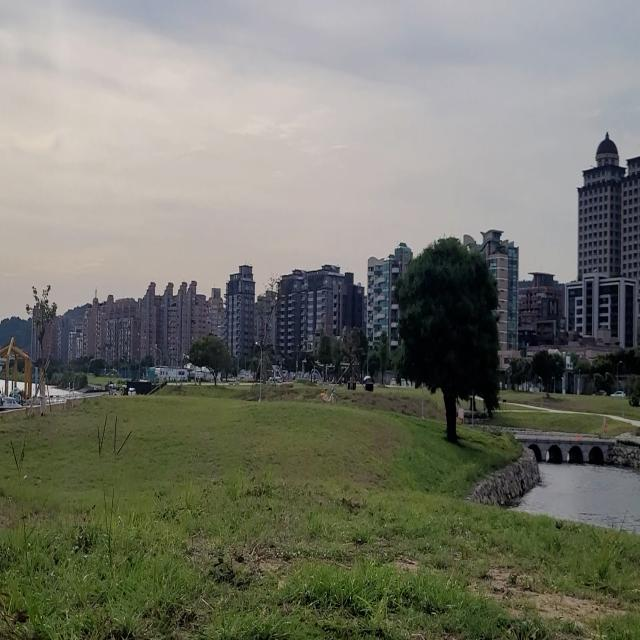grass: (0, 388, 640, 639)
